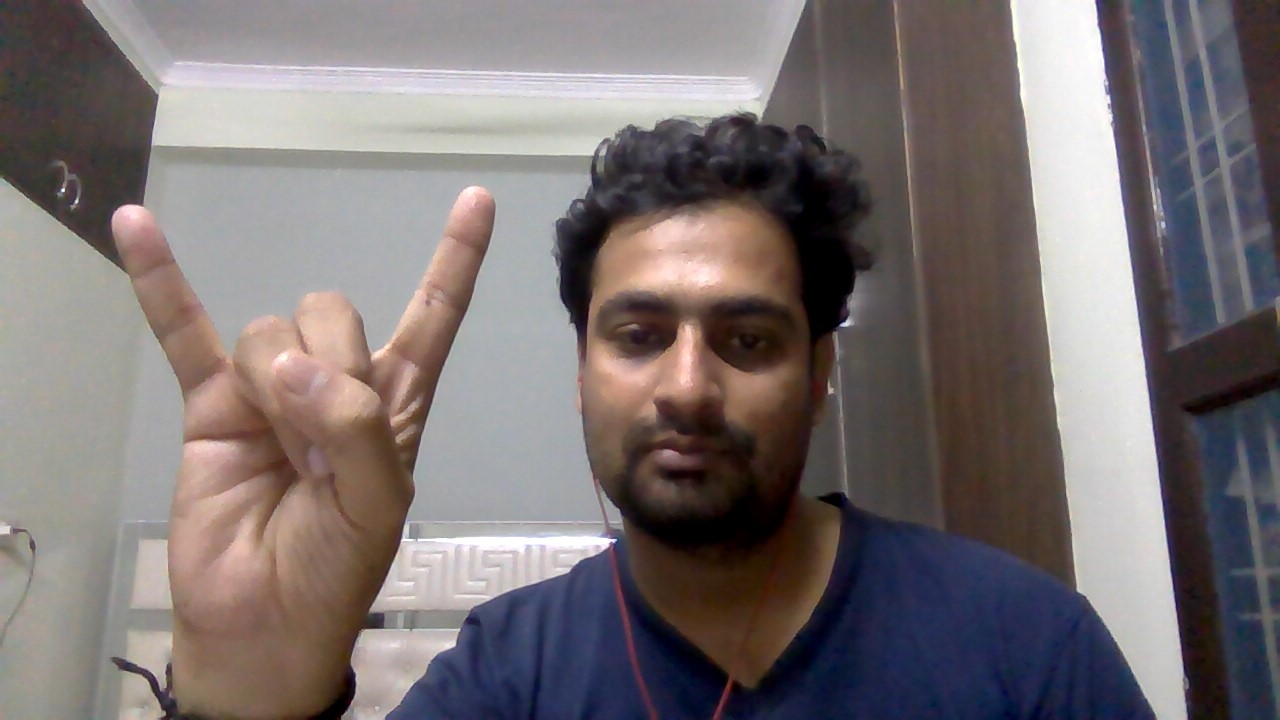Select All: (97, 175, 510, 641)
